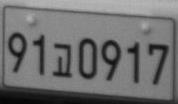0: (77, 37, 98, 79)
1: (124, 40, 146, 83), (30, 33, 49, 75)
7: (148, 43, 169, 84)
9: (99, 38, 121, 81), (7, 30, 27, 73)
고: (51, 42, 73, 77)
